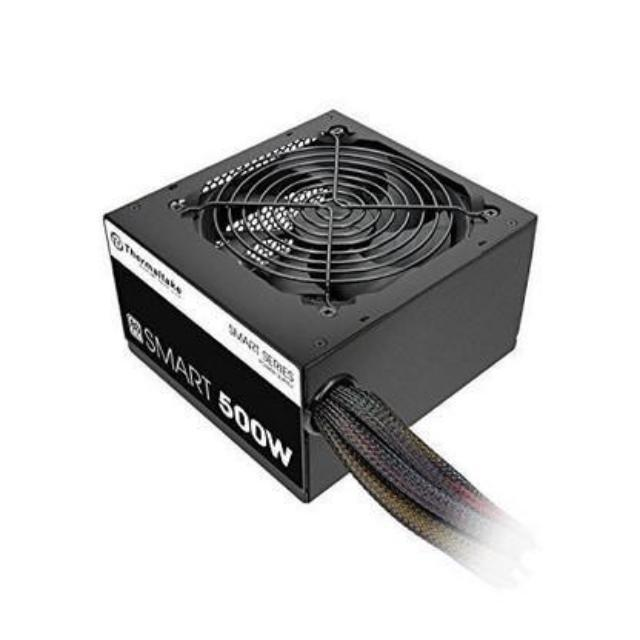PSU: (99, 102, 541, 508)
